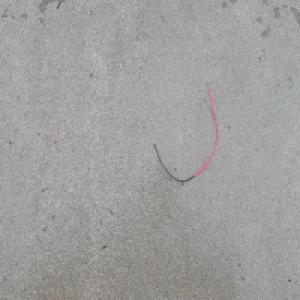Wire: (148, 76, 218, 184)
